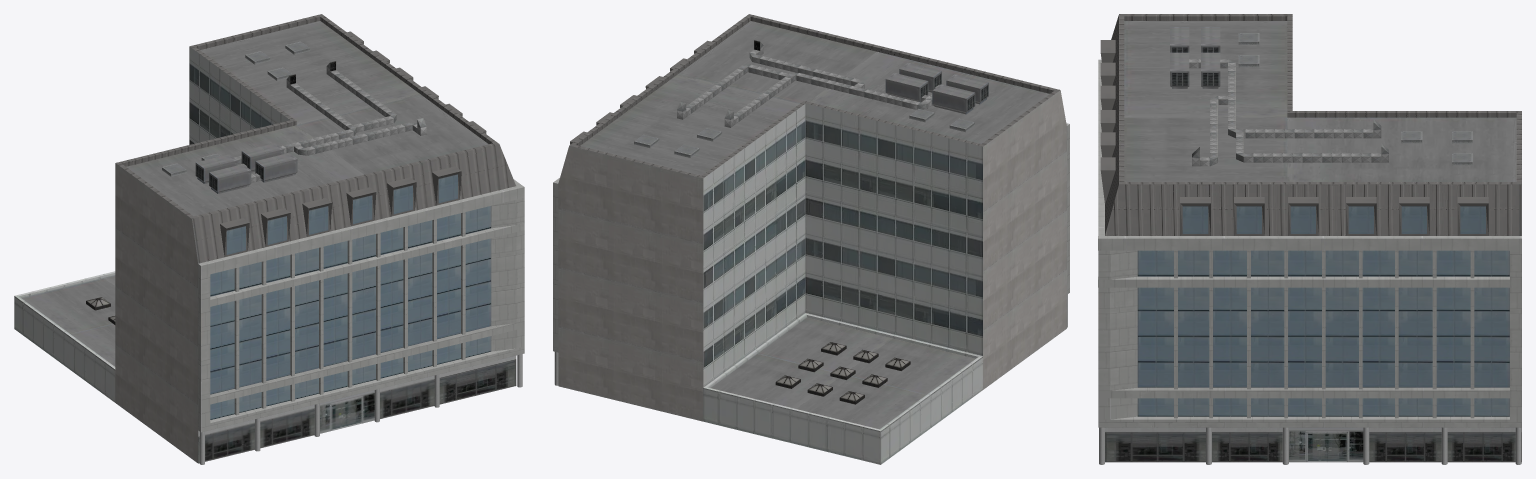
Rendered from office-l3.glb.
The picture shows the model from 3 angles, left to right: view 1: azimuth 30°, elevation 25°; view 2: azimuth 150°, elevation 25°; view 3: azimuth 270°, elevation 25°; orthographic projection. The views are drawn at different scales.
Parts seen in each view (by area): view 1: AIT01W2W9_AIT01W2W9_0; view 2: AIT01W2W9_AIT01W2W9_0; view 3: AIT01W2W9_AIT01W2W9_0.
Boxes of the visible parts, box(x1,y1,x2,y2) form: AIT01W2W9_AIT01W2W9_0: box(14, 14, 524, 464); AIT01W2W9_AIT01W2W9_0: box(553, 14, 1069, 464); AIT01W2W9_AIT01W2W9_0: box(1098, 14, 1521, 464).
Bounding box in the file's own units: 32.53 × 24.24 × 32.53.
Materials: 1 (1 with a texture image).
